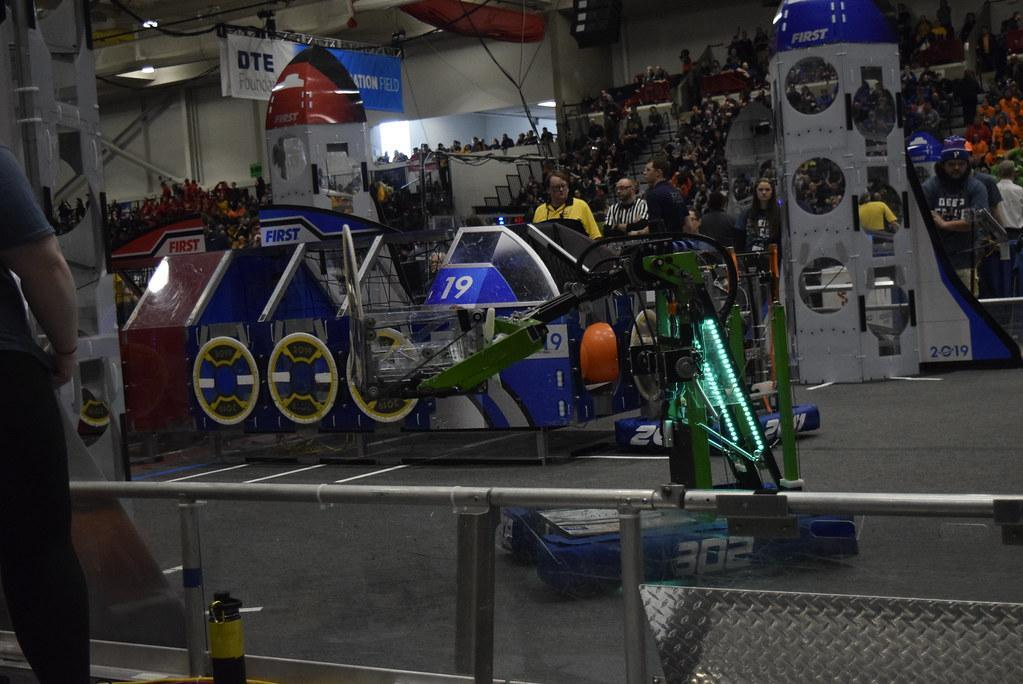robot: (502, 249, 860, 597)
